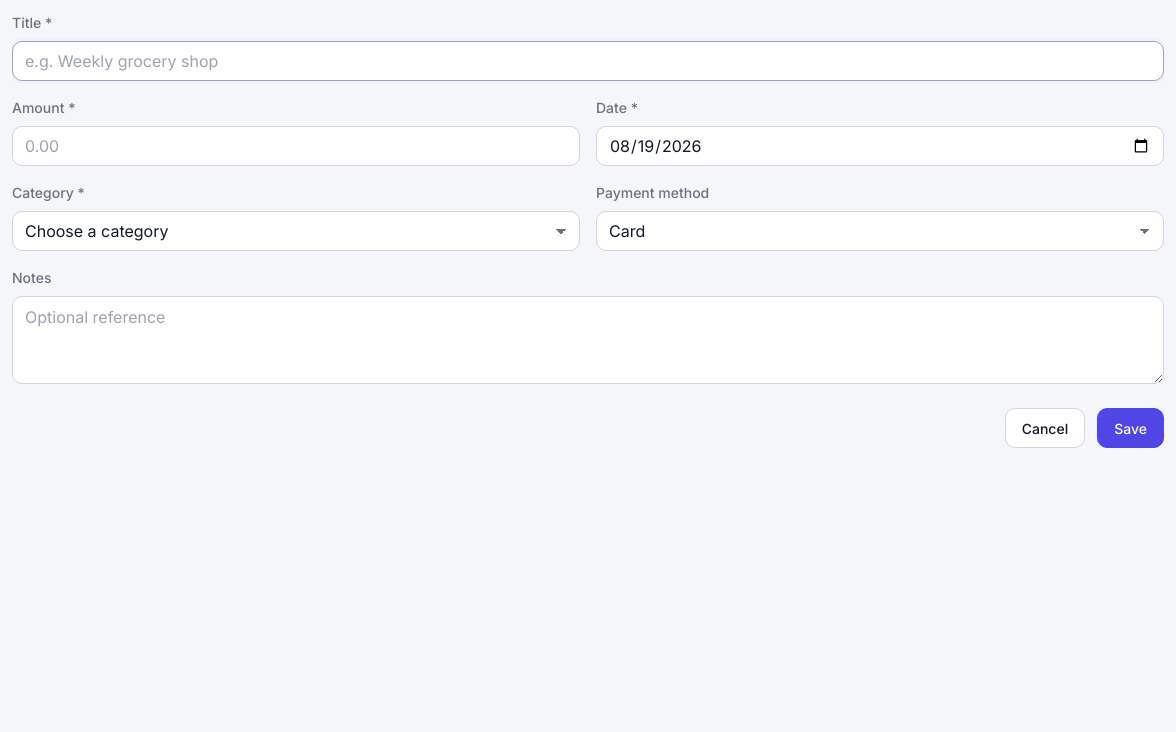
Test: TransactionForm › blocks submission and reports every missing required field
Click the button "Save" at (1131, 428), box [1097,408,1164,448]
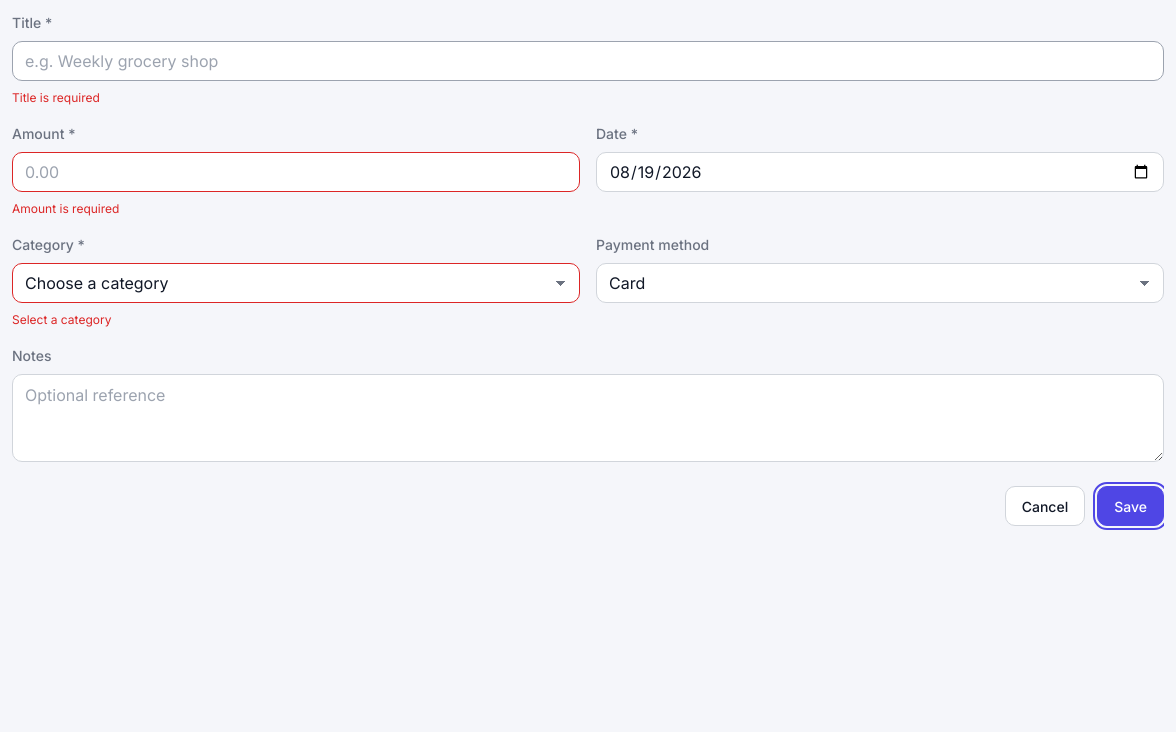
Check: the text "Title is required" is shown, box [12,90,100,105]
Check: the text "Amount is required" is shown, box [12,201,119,216]
Check: the text "Select a category" is shown, box [12,312,111,327]
